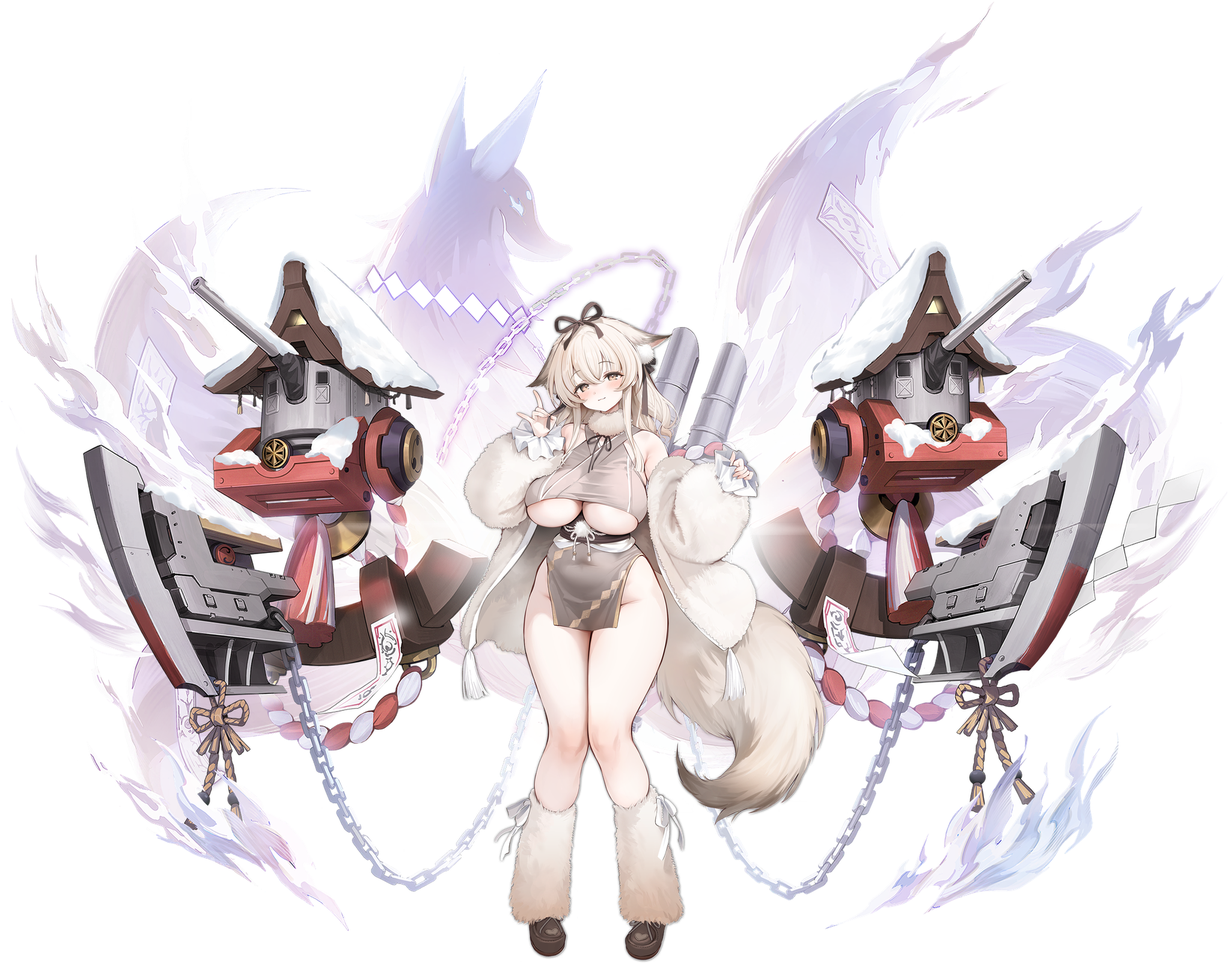person: (445, 238, 761, 962)
